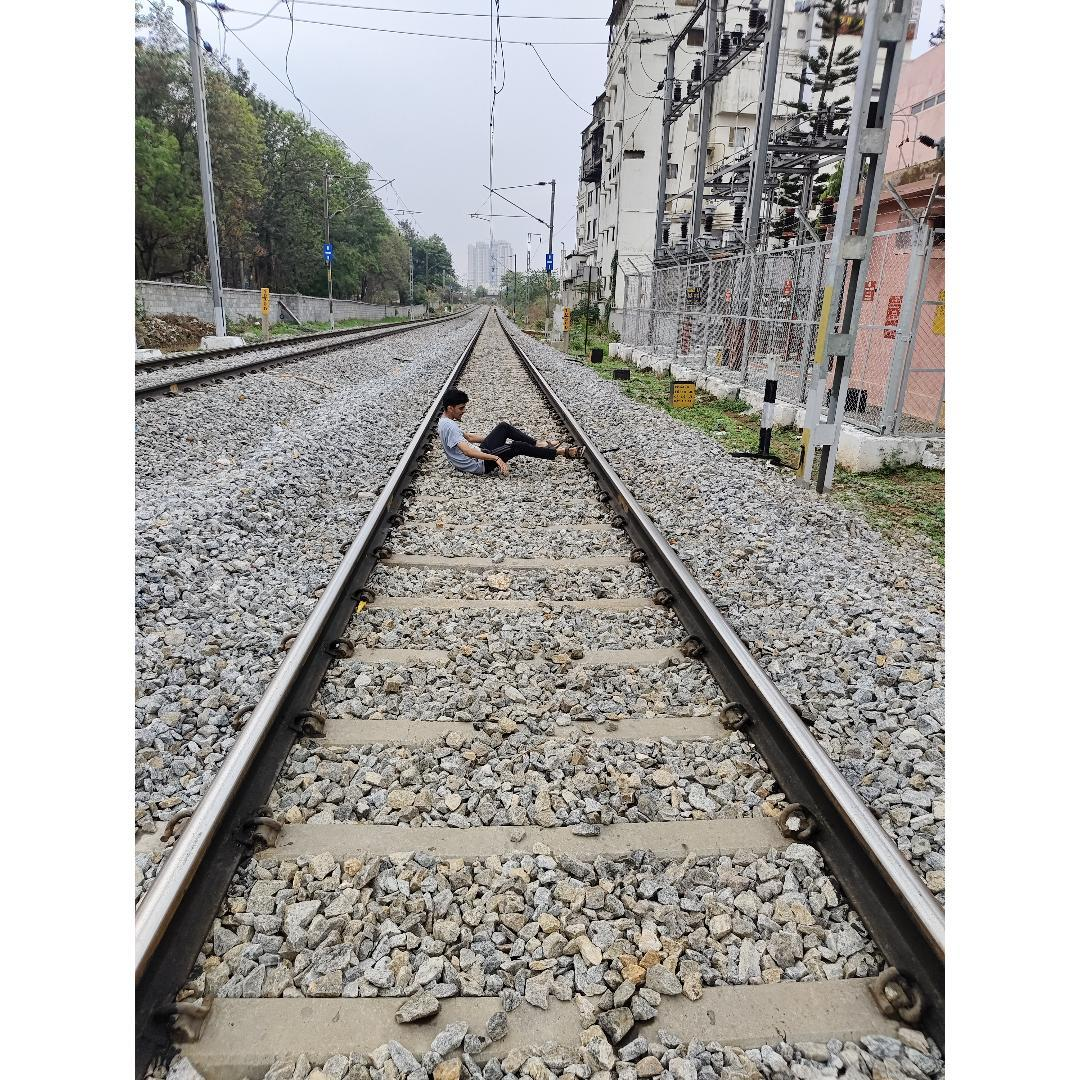sitting: (436, 388, 586, 477)
track: (135, 294, 945, 1067)
